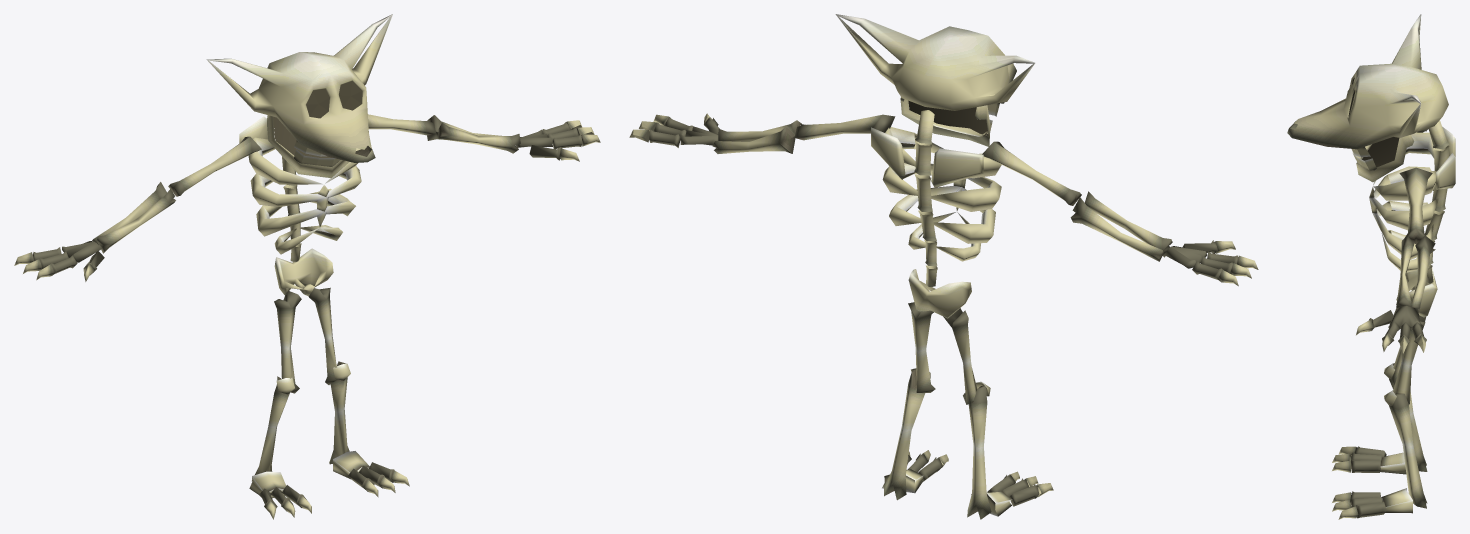
Rendered from Skeleton.obj.
3 renders of one model, left to right at view 1: azimuth 30°, elevation 25°; view 2: azimuth 150°, elevation 25°; view 3: azimuth 270°, elevation 25°, orthographic. The views are drawn at different scales.
Visible parts, largest first — view 1: Skeleton; view 2: Skeleton; view 3: Skeleton.
Part boxes in pixels (x1,y1,x2,y2): Skeleton: (14,14,600,519); Skeleton: (629,14,1258,519); Skeleton: (1287,14,1455,519).
Bounding box in the file's own units: 131 × 95.64 × 33.93.
1 material, 1 textured.
